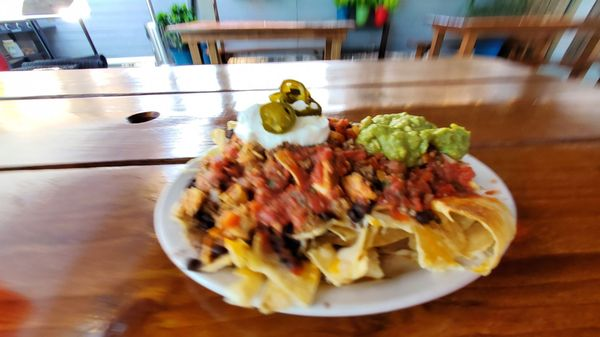curry: (355, 113, 471, 167)
